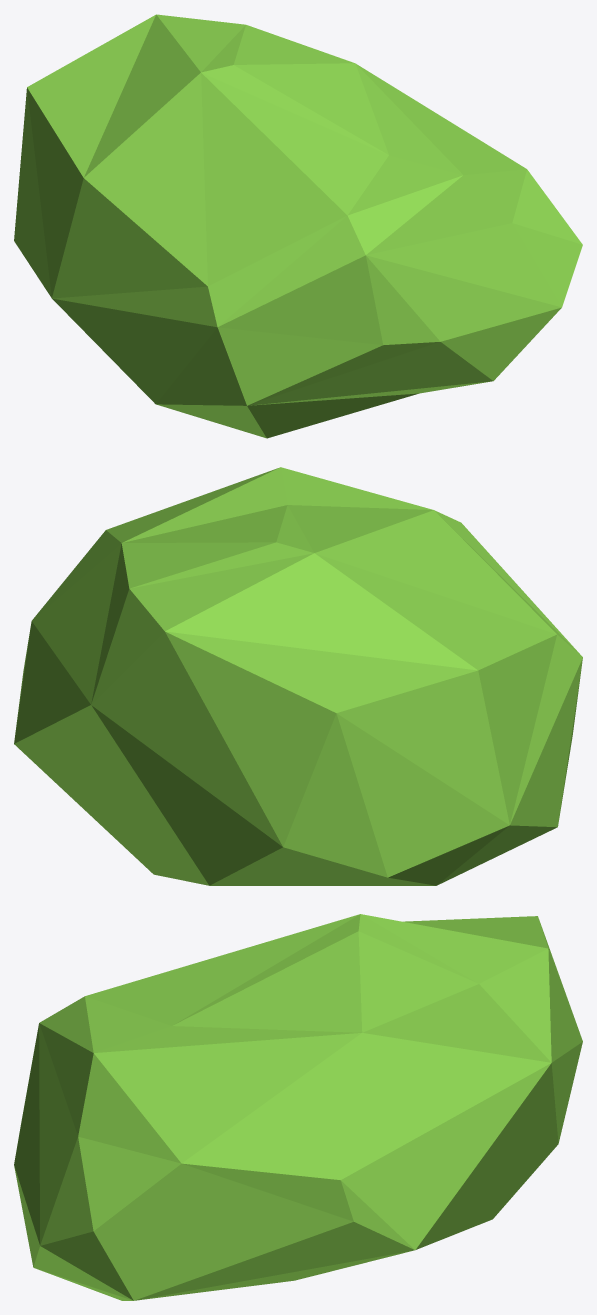
File: Mosh 14.FBX
3 views of the same model, one above another, from view 1: azimuth 30°, elevation 25°; view 2: azimuth 150°, elevation 25°; view 3: azimuth 270°, elevation 25° (orthographic). The views are drawn at different scales.
Visible parts, largest first — view 1: cube; view 2: cube; view 3: cube.
Part boxes in pixels (x1,y1,x2,y2): cube: (14,14,582,438); cube: (14,467,582,885); cube: (14,914,582,1300).
Size of the model in its own units: 72.43 by 47.18 by 75.31.
